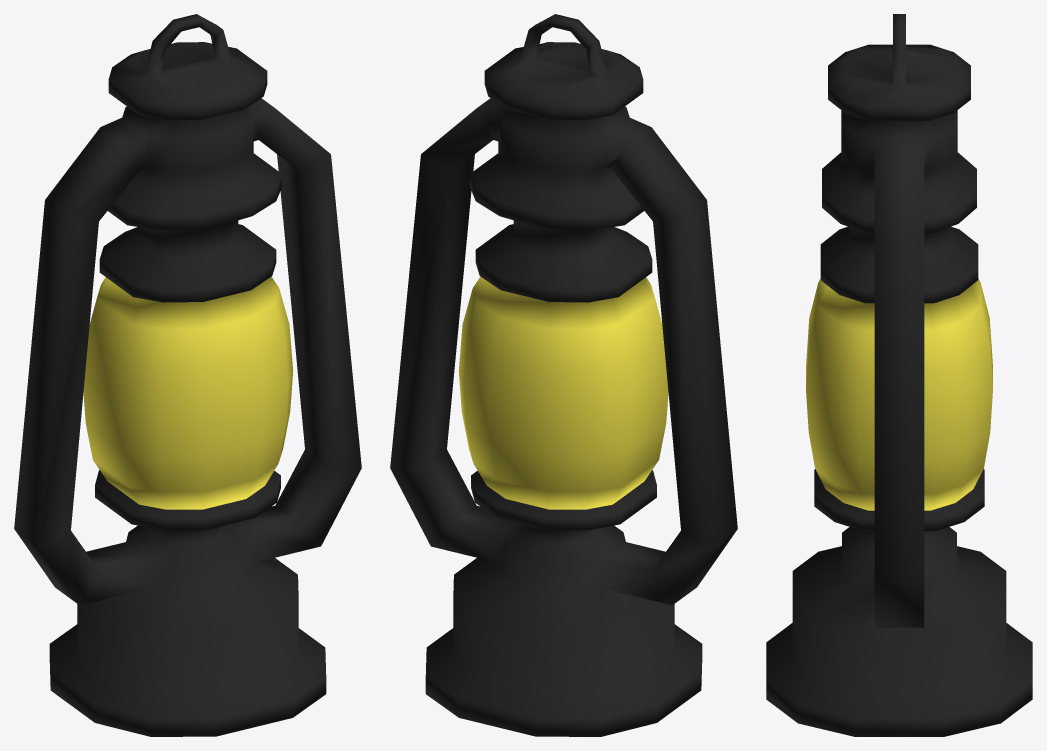
Rendered from Lantern.fbx.
3 renders of one model, left to right at view 1: azimuth 30°, elevation 25°; view 2: azimuth 150°, elevation 25°; view 3: azimuth 270°, elevation 25°, orthographic.
Visible parts, largest first — view 1: Cube; view 2: Cube; view 3: Cube.
Part boxes in pixels (box(x1,y1,x2,y2)): Cube: box(14, 14, 361, 736); Cube: box(390, 14, 737, 736); Cube: box(766, 14, 1032, 736).
Bounding box in the file's own units: 421 × 821 × 300.
